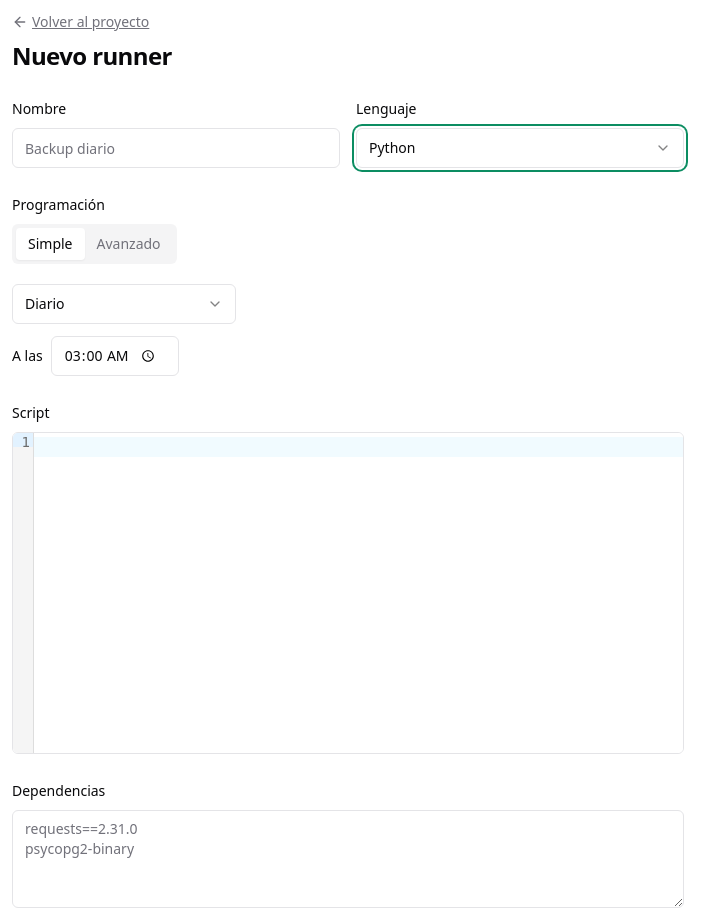
RunnerFormPage (crear) › oculta el campo de dependencias para bash
Expected: the text box labelled "Dependencias" is shown, [12,810,684,908]
Press ArrowDown in the dropdown named "Lenguaje", box [356,128,684,168]
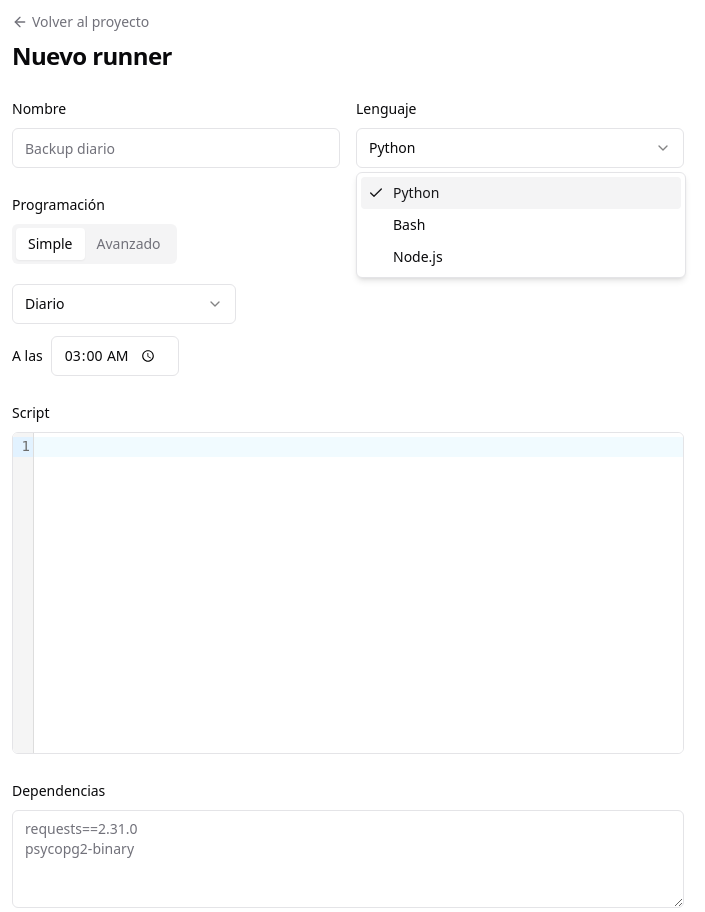
Click the option "Bash" at (409, 224), box [393,215,425,234]
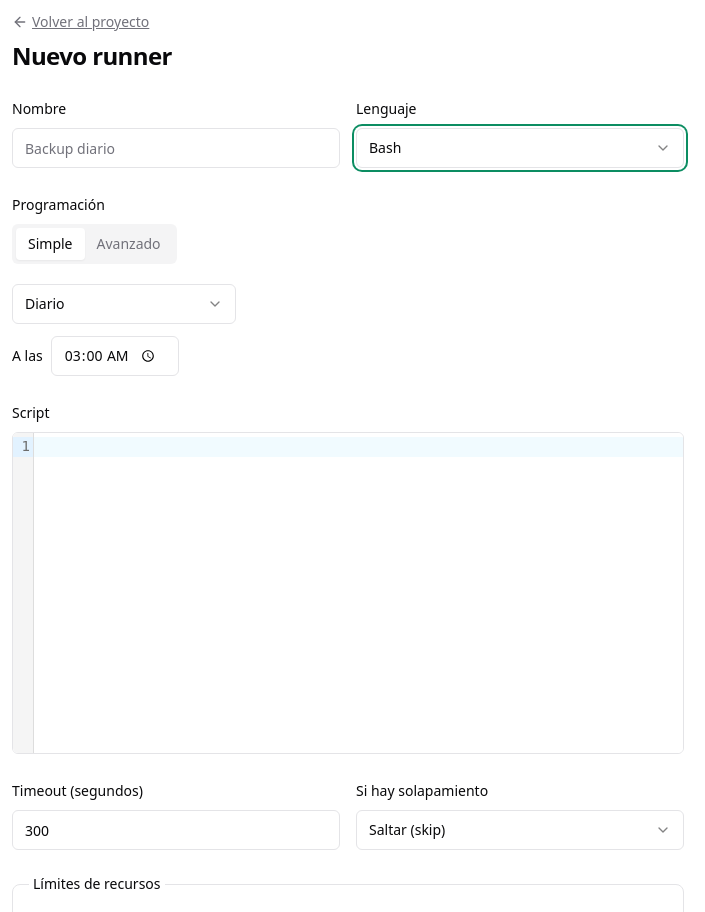
Result: the label labelled "Dependencias" is gone
